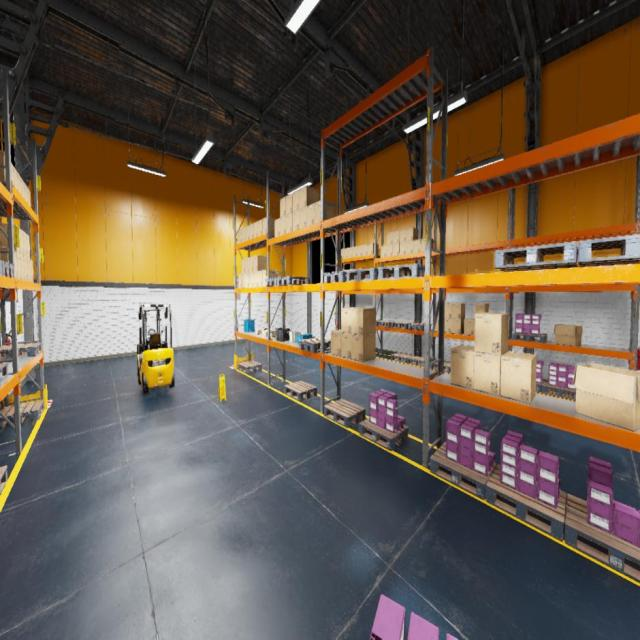box: (572, 363, 640, 431), (501, 351, 536, 403), (473, 351, 507, 396), (474, 312, 508, 354), (450, 345, 474, 389), (352, 333, 376, 361), (351, 308, 375, 335), (0, 222, 20, 254), (554, 324, 582, 346), (314, 200, 336, 223), (299, 185, 319, 209), (341, 307, 358, 333), (262, 270, 279, 286), (341, 332, 351, 359), (253, 254, 267, 272), (263, 217, 277, 234), (332, 330, 341, 356), (474, 304, 489, 319), (452, 318, 465, 334), (451, 304, 465, 318), (306, 203, 314, 226), (406, 227, 418, 242), (292, 190, 300, 212), (464, 318, 474, 335), (292, 210, 300, 231), (421, 238, 433, 252), (0, 150, 5, 181), (285, 193, 292, 215), (0, 246, 9, 263), (280, 196, 286, 218), (444, 318, 452, 334), (300, 207, 306, 228), (286, 213, 292, 233), (368, 243, 378, 255), (280, 216, 286, 235), (274, 218, 280, 237), (14, 250, 18, 278), (20, 228, 24, 256), (413, 239, 421, 253), (17, 253, 21, 279), (21, 254, 25, 280), (23, 231, 27, 257), (445, 304, 452, 318), (393, 230, 400, 244), (24, 256, 28, 280), (14, 167, 18, 190), (27, 259, 31, 282), (406, 241, 413, 254), (399, 229, 406, 242), (257, 219, 262, 236), (257, 270, 262, 287), (399, 242, 406, 254), (24, 183, 28, 203), (387, 232, 393, 245), (393, 243, 399, 256), (27, 234, 30, 259), (362, 244, 368, 256), (387, 244, 393, 256), (11, 163, 14, 186), (254, 221, 258, 238), (18, 173, 21, 195), (381, 245, 386, 258), (249, 223, 253, 239), (249, 272, 253, 288), (245, 272, 249, 288), (249, 256, 253, 272), (22, 178, 25, 199), (434, 317, 438, 332), (28, 188, 31, 207), (245, 226, 249, 240), (238, 229, 242, 243), (254, 272, 258, 286), (238, 274, 242, 288), (245, 258, 249, 272), (348, 247, 353, 258), (352, 246, 357, 256), (255, 328, 263, 334), (242, 226, 245, 242), (242, 258, 245, 274), (358, 244, 362, 256), (31, 260, 33, 283), (242, 273, 245, 287), (344, 248, 348, 258), (264, 327, 272, 331), (264, 331, 270, 336), (270, 333, 276, 337), (341, 249, 343, 259), (262, 330, 264, 334), (474, 320, 474, 336)
forklift: (138, 304, 174, 393)
pallets: (564, 494, 640, 582), (486, 464, 567, 542), (431, 442, 496, 500), (494, 241, 578, 271), (578, 234, 640, 267), (359, 417, 408, 451), (0, 399, 44, 428), (324, 399, 365, 428), (0, 342, 42, 360), (378, 264, 425, 279), (542, 380, 576, 400), (284, 381, 317, 401), (298, 337, 331, 353), (346, 268, 378, 281), (324, 271, 354, 283), (512, 332, 547, 342), (277, 276, 311, 286), (238, 360, 262, 373), (407, 356, 431, 366), (390, 353, 412, 363), (0, 465, 7, 495), (430, 362, 450, 372), (408, 323, 431, 331), (2, 261, 13, 277), (0, 362, 8, 381), (375, 320, 396, 327), (391, 322, 414, 328), (266, 278, 278, 286), (536, 380, 544, 392), (0, 372, 1, 387), (0, 260, 1, 275)
